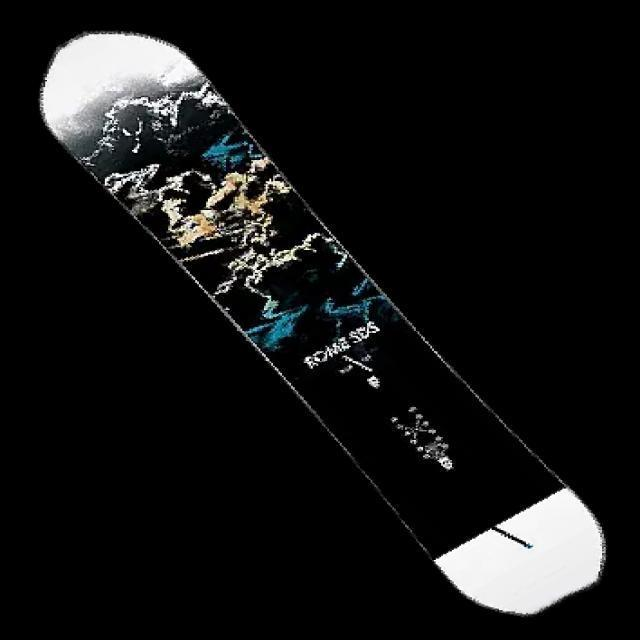Snowboard: (37, 29, 606, 617)
